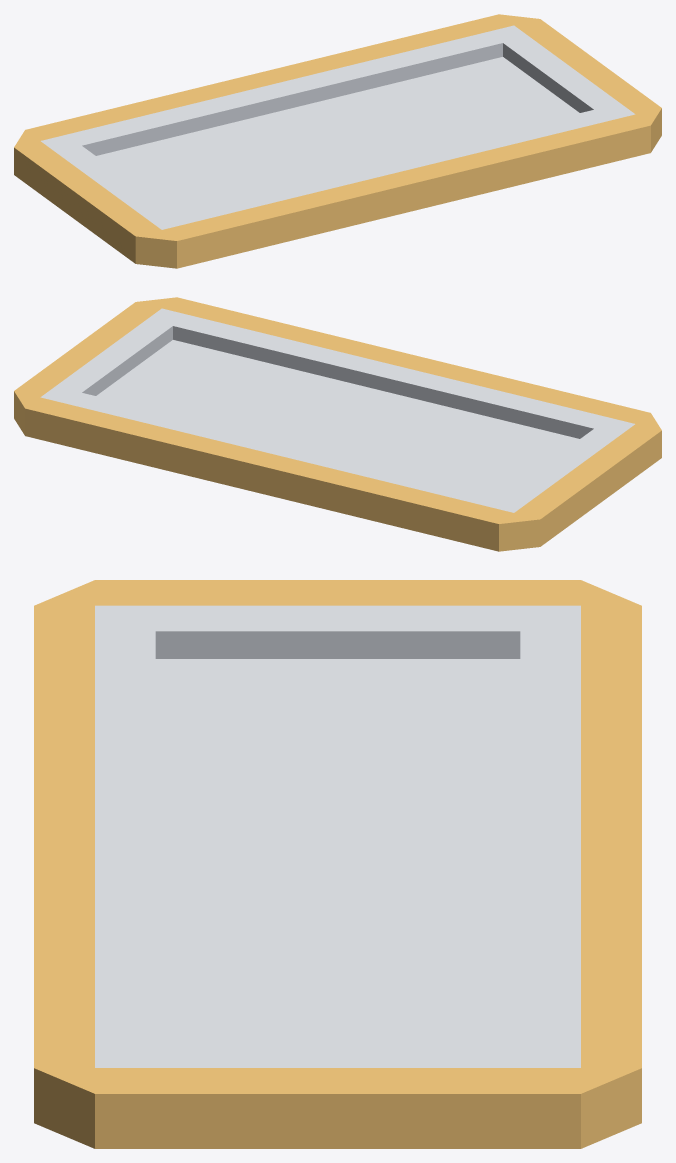
File: space_platform_long.glb
3 views of the same model, one above another, from view 1: azimuth 30°, elevation 25°; view 2: azimuth 150°, elevation 25°; view 3: azimuth 270°, elevation 25° (orthographic). The views are drawn at different scales.
Visible parts, largest first — view 1: platform_long; view 2: platform_long; view 3: platform_long.
Part boxes in pixels (box(x1,y1,x2,y2)): platform_long: box(14, 14, 661, 268); platform_long: box(14, 297, 661, 551); platform_long: box(34, 580, 641, 1148).
Size of the model in its own units: 2 by 0.1 by 1.
